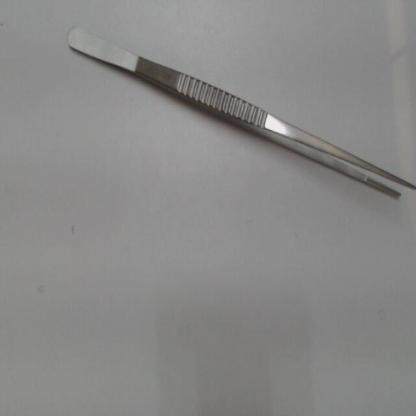DeBakey Dissector: (54, 25, 415, 222)
